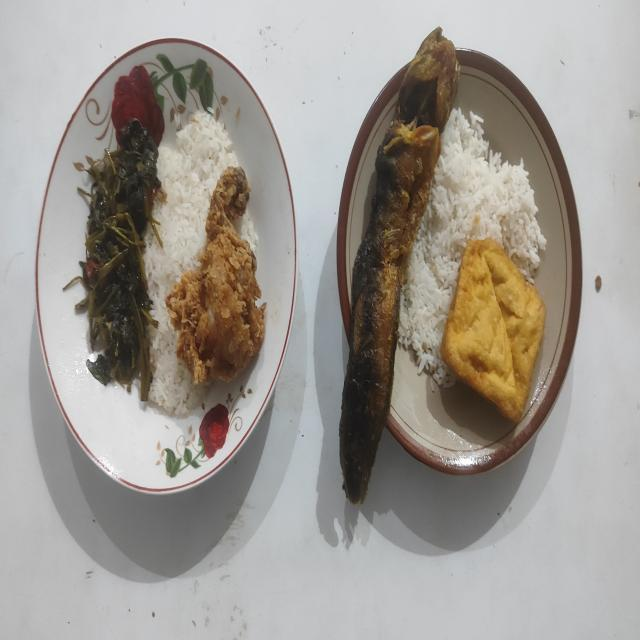nasi_putih: (399, 108, 546, 386), (144, 112, 238, 418)
tahu_goreng: (440, 238, 546, 422)
tumis_kangkung: (66, 118, 162, 400)
